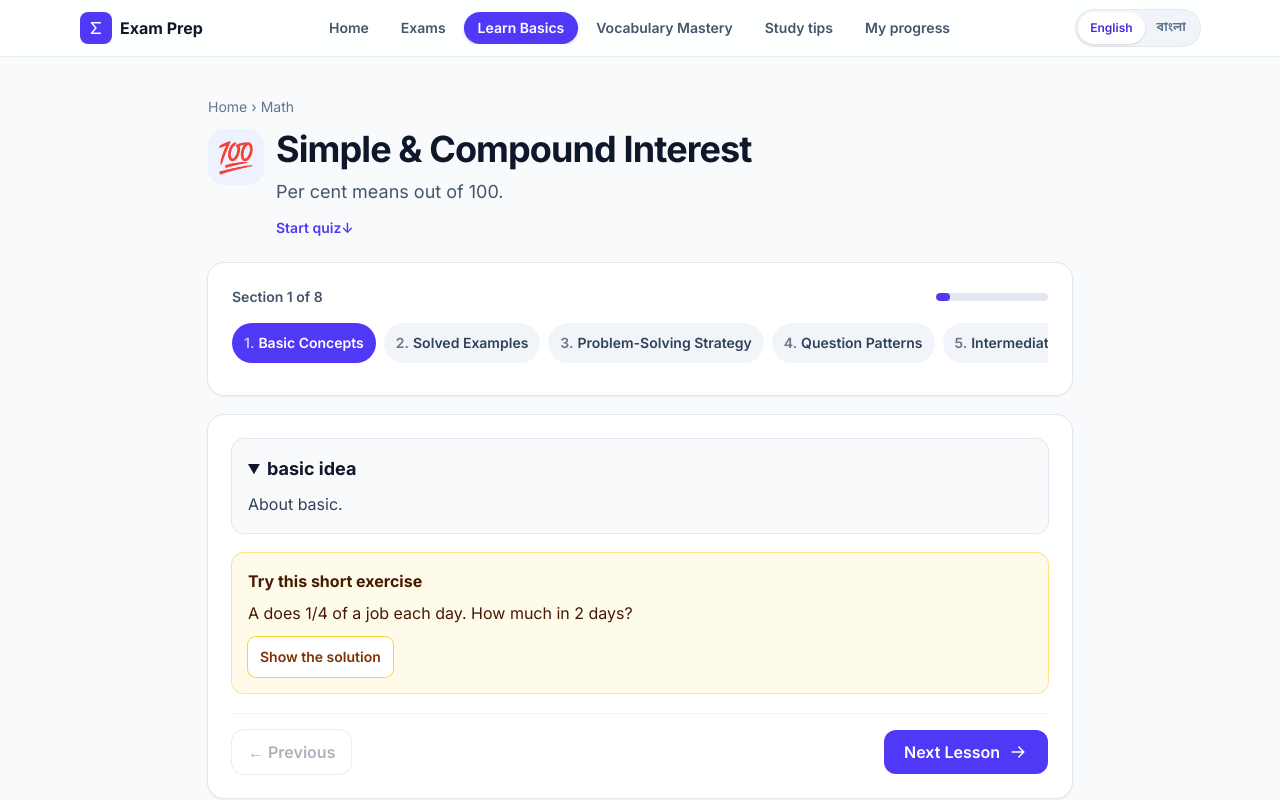
Test: learn › loads solved question patterns for the Simple & Compound Interest lesson
This screenshot has width=1280, height=800.
expect the heading "Simple & Compound Interest" is shown: met, box [276, 129, 752, 169]
Click the button "4.Question Patterns": (853, 343) [772, 323, 935, 363]
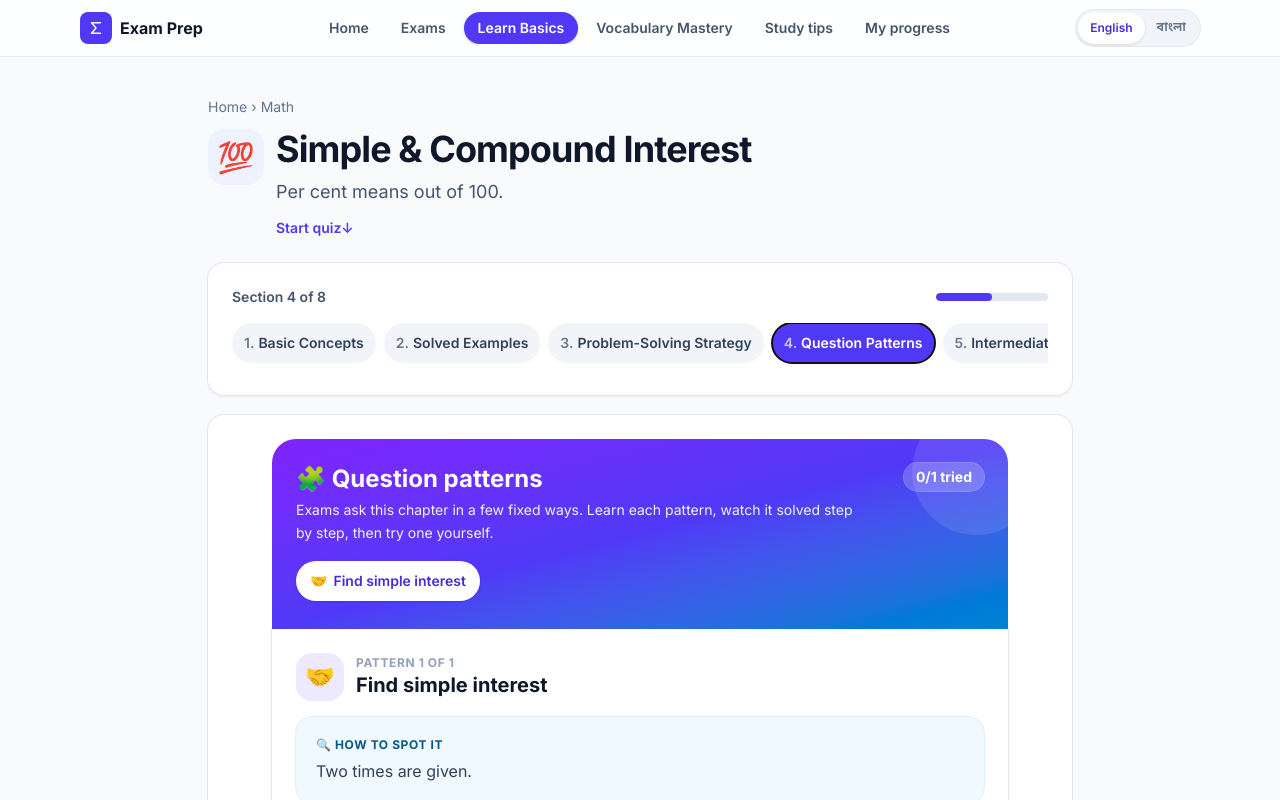
expect the heading "Find simple interest" is shown: met, box [356, 671, 548, 699]
